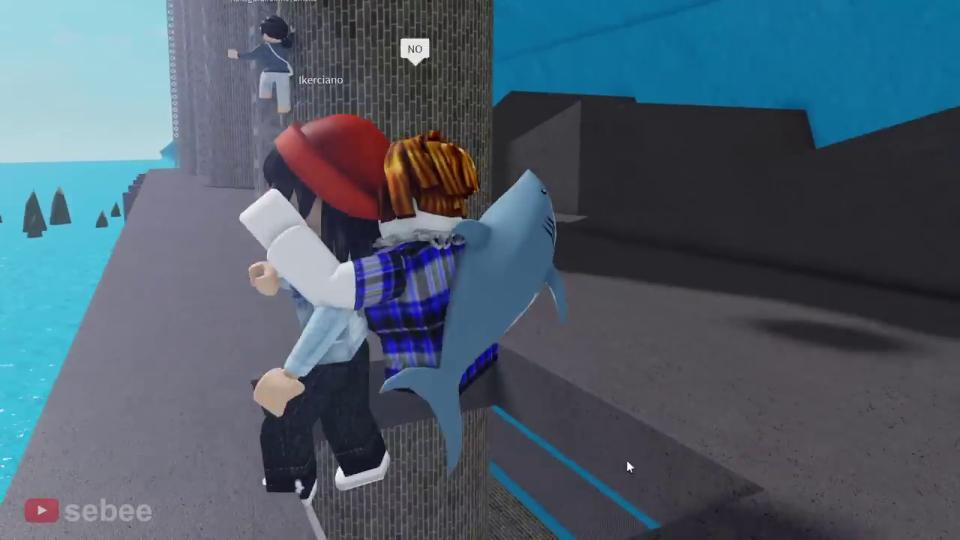Character: (240, 130, 499, 390), (248, 115, 391, 504), (228, 17, 297, 114)
